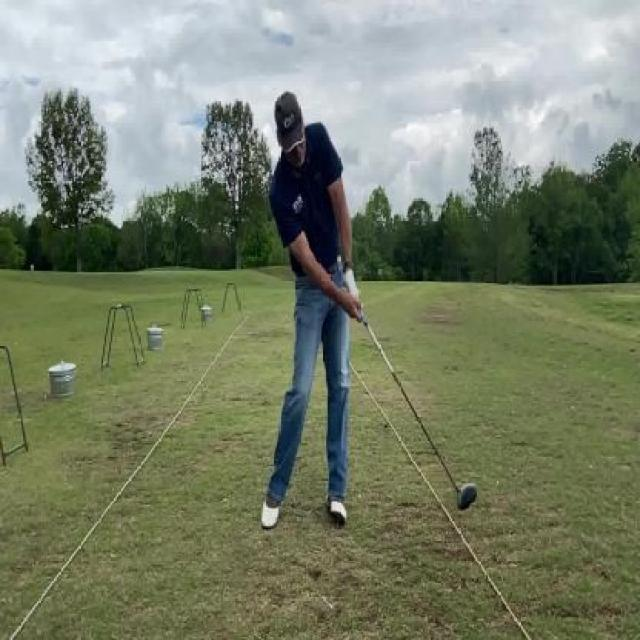club head: (452, 479, 478, 513)
